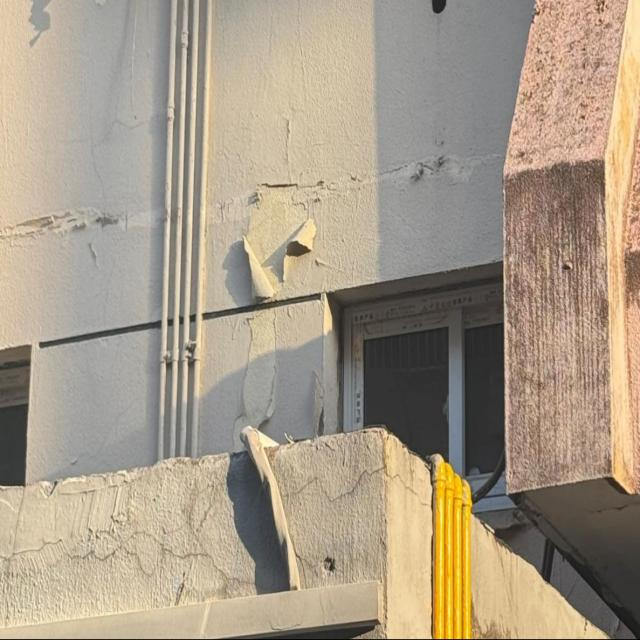mildew: (505, 154, 613, 494)
spalling: (227, 161, 338, 434), (2, 187, 160, 264), (332, 142, 500, 203)
